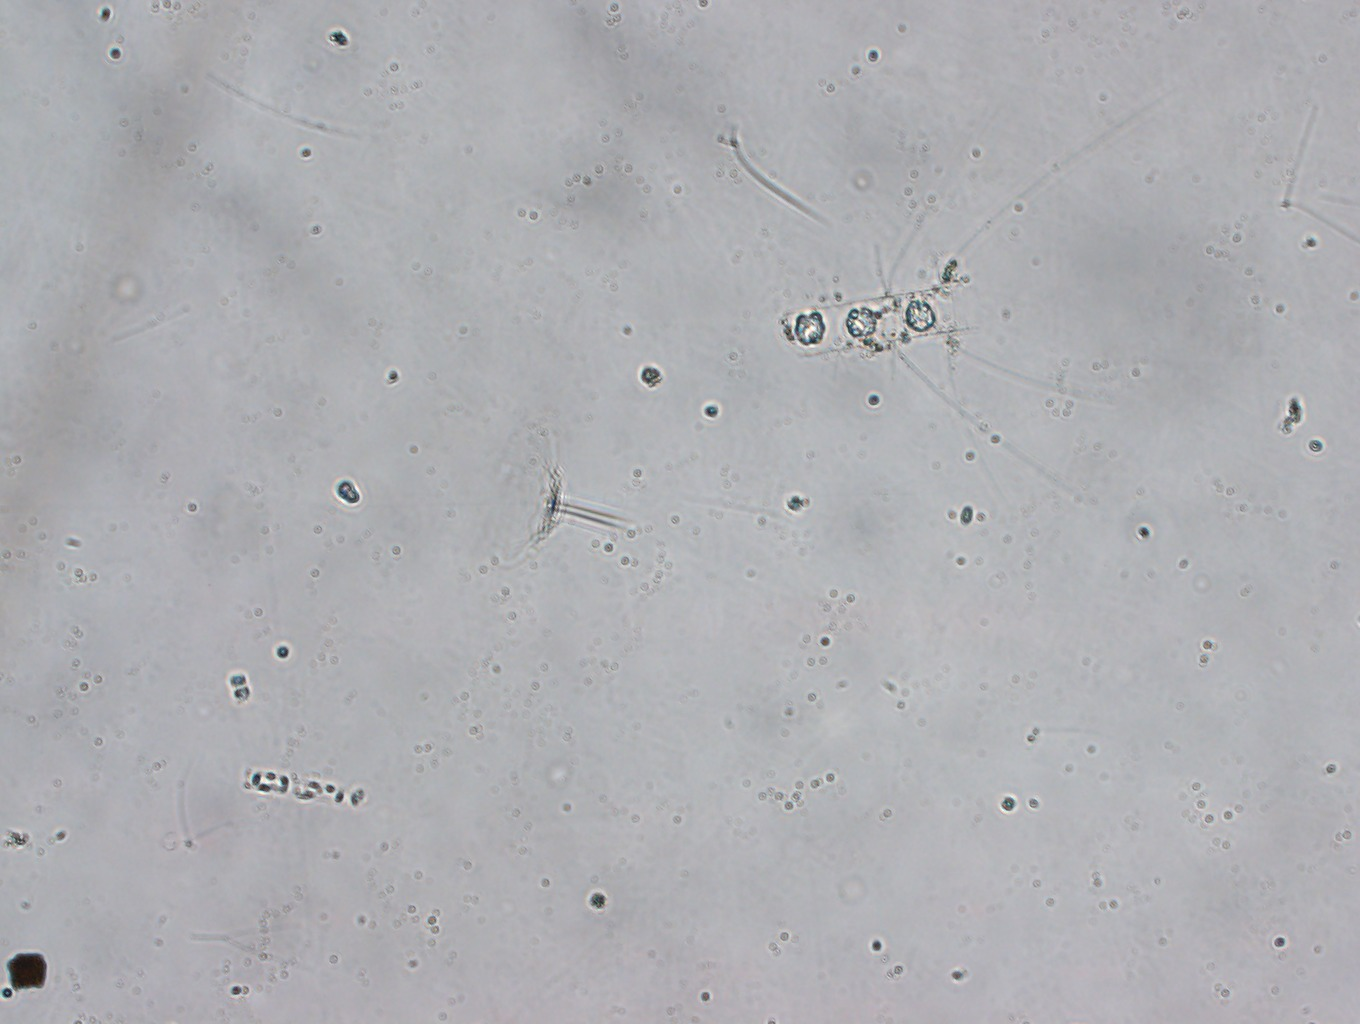chaetoceros: (777, 85, 1204, 508)
